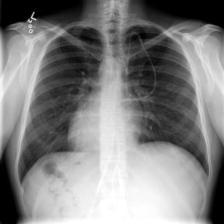normal: (13, 18, 215, 190)
